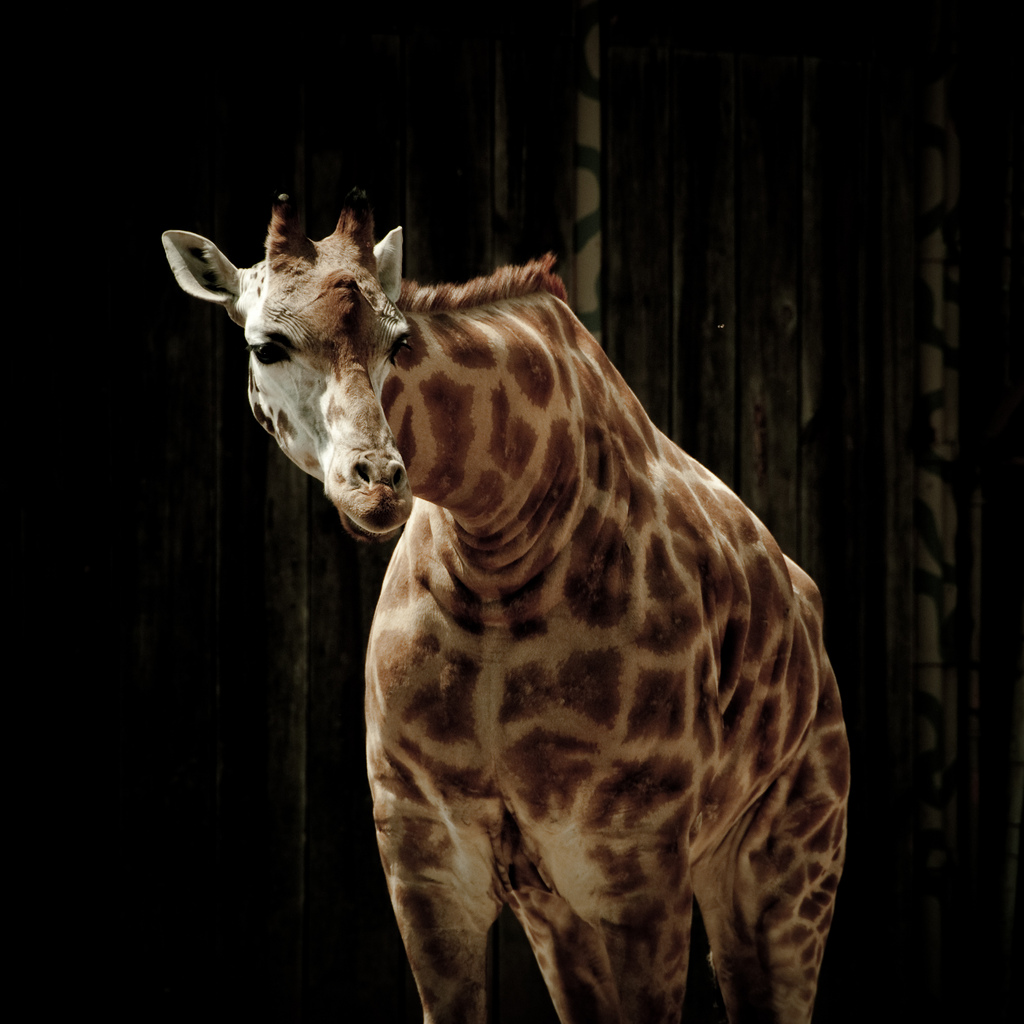giraffe: (154, 172, 884, 979)
